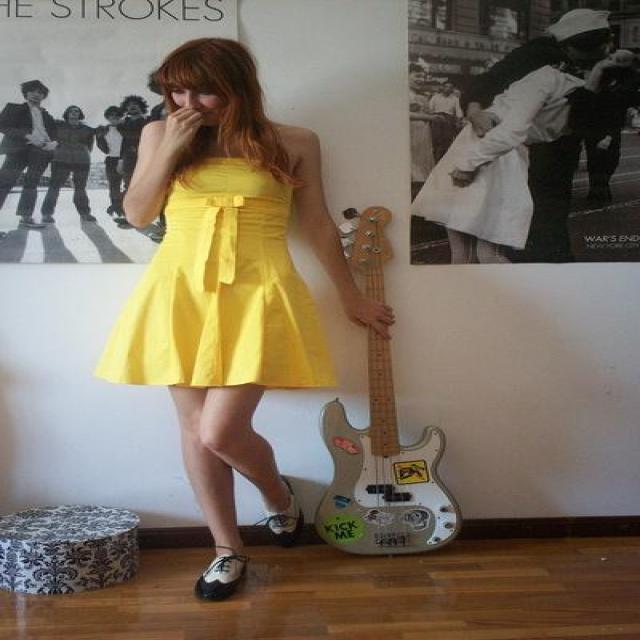dress: (91, 155, 362, 389)
shoe: (195, 504, 320, 602)
